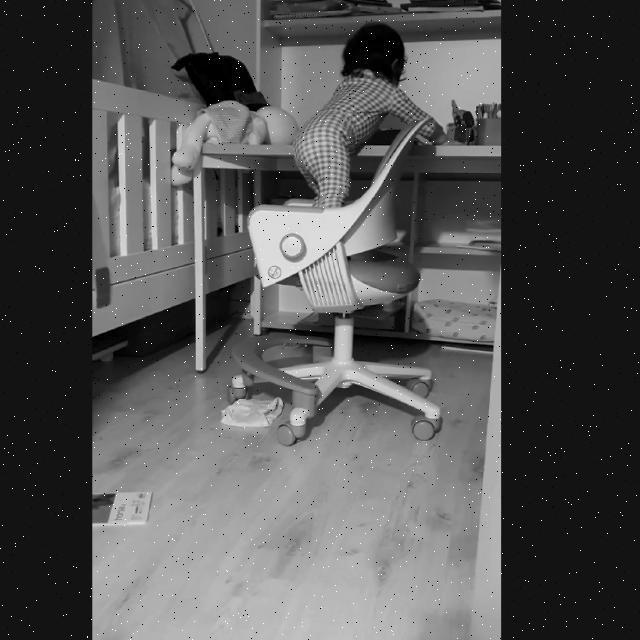child: (296, 20, 441, 247)
